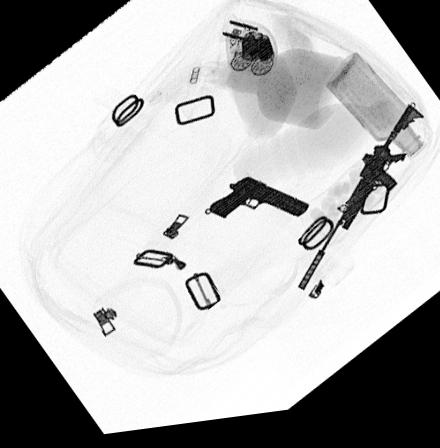Gun: (295, 112, 425, 300), (202, 180, 311, 227)
